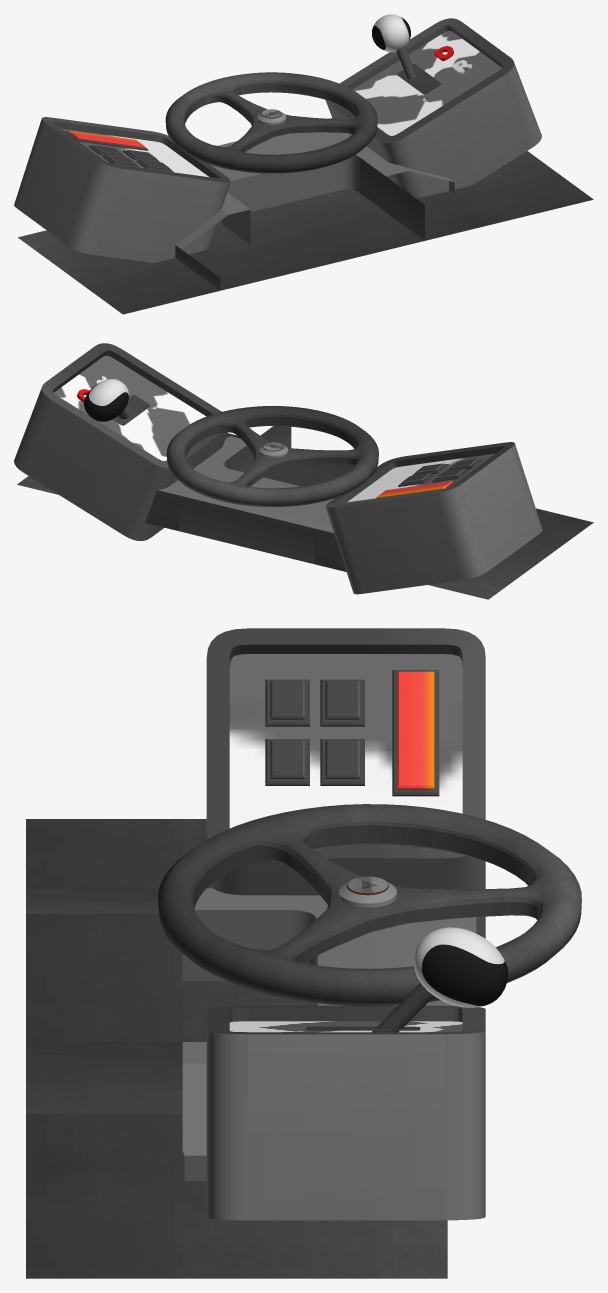
The model's file is Control_Panel.fbx.
3 renders of one model, top to bottom at view 1: azimuth 30°, elevation 25°; view 2: azimuth 150°, elevation 25°; view 3: azimuth 270°, elevation 25°, orthographic. The views are drawn at different scales.
Visible parts, largest first — view 1: Box046, Circle_001_002, Ball; view 2: Box046, Circle_001_002, Ball; view 3: Box046, Circle_001_002, Ball.
Boxes of the visible parts, left/top/right/bottom form: Box046: left=14, top=18, right=593, bottom=314; Circle_001_002: left=165, top=72, right=377, bottom=173; Ball: left=372, top=14, right=415, bottom=79; Box046: left=14, top=343, right=593, bottom=599; Circle_001_002: left=166, top=406, right=378, bottom=506; Ball: left=84, top=379, right=128, bottom=421; Box046: left=26, top=628, right=485, bottom=1278; Circle_001_002: left=158, top=804, right=581, bottom=1005; Ball: left=372, top=927, right=508, bottom=1032.
Bounding box in the file's own units: 16401 × 4957 × 8374.
